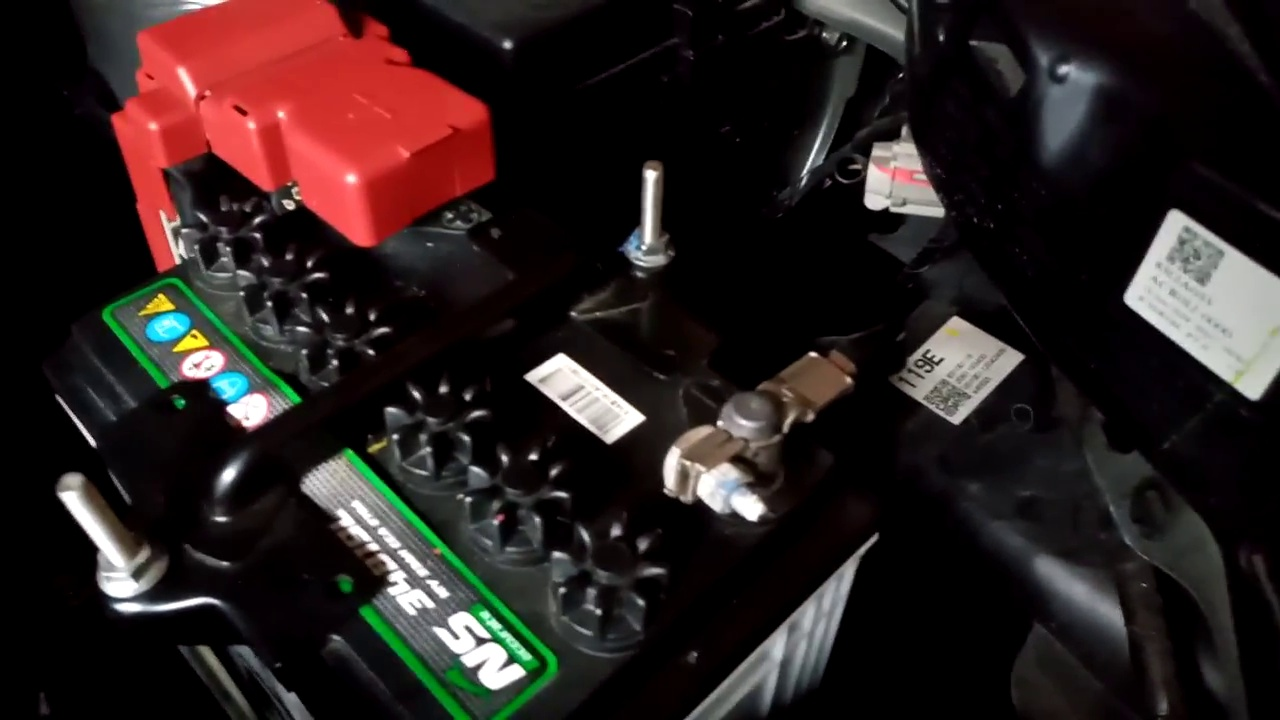battery: (71, 26, 889, 691)
neg_connected: (662, 325, 859, 536)
pos_connected: (111, 12, 505, 296)
